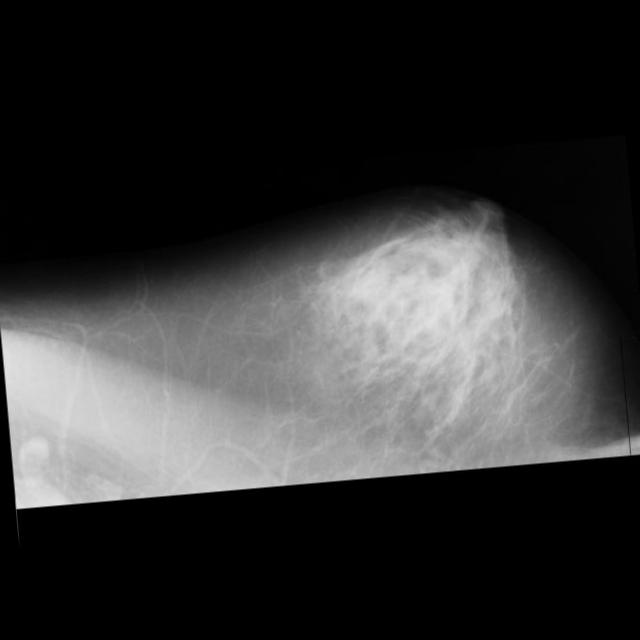CALC: (436, 406, 453, 423)
